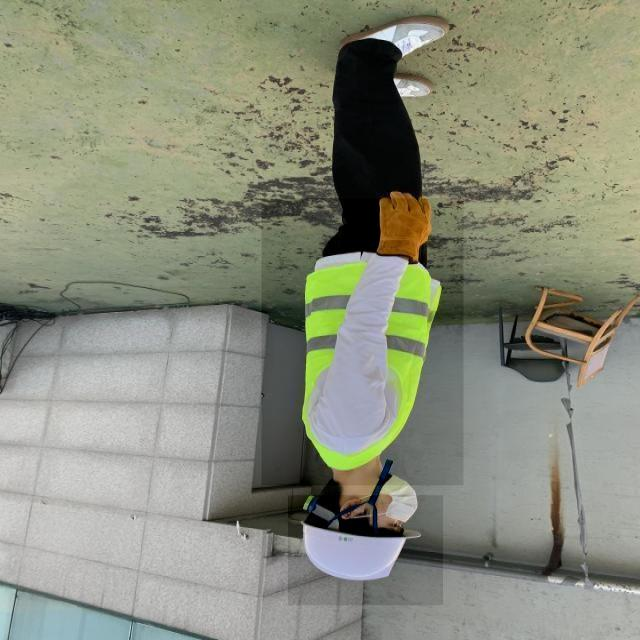Helmet: (288, 495, 444, 605)
Safety Vest: (262, 198, 464, 486)
